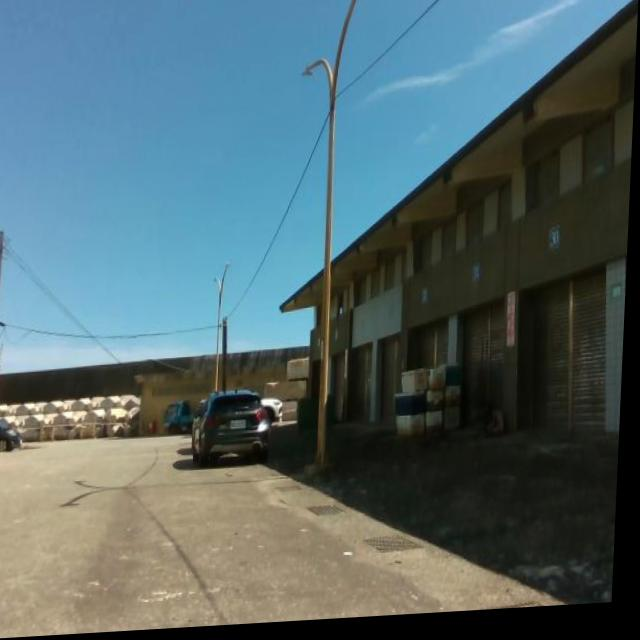pollute: (395, 369, 468, 442)
